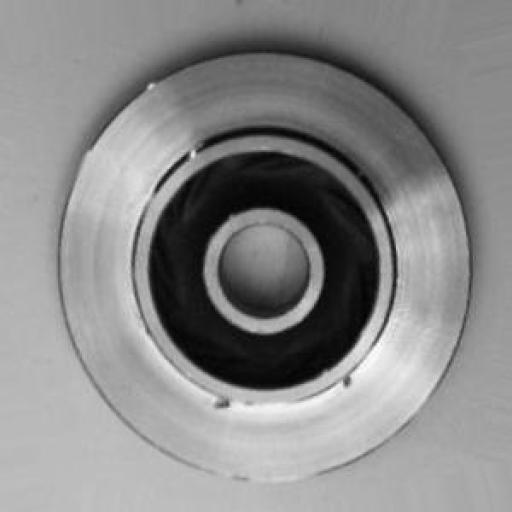defect: (168, 352, 364, 438)
